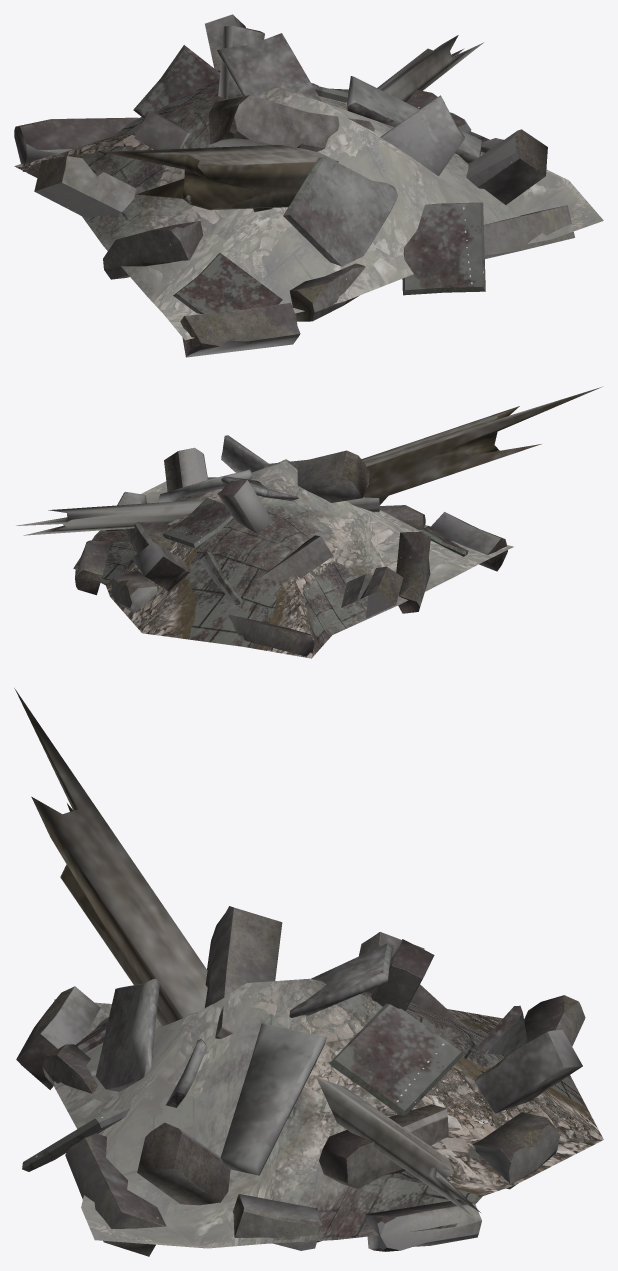
File: House_rubble5.fbx
3 views of the same model, one above another, from view 1: azimuth 30°, elevation 25°; view 2: azimuth 150°, elevation 25°; view 3: azimuth 270°, elevation 25° (orthographic). The views are drawn at different scales.
Visible parts, largest first — view 1: rebel_low.003; view 2: rebel_low.003; view 3: rebel_low.003.
Boxes of the visible parts, box(x1,y1,x2,y2) form: rebel_low.003: box(14, 14, 603, 357); rebel_low.003: box(16, 386, 602, 658); rebel_low.003: box(14, 688, 603, 1256).
Bounding box in the file's own units: 194 × 83.36 × 150.
